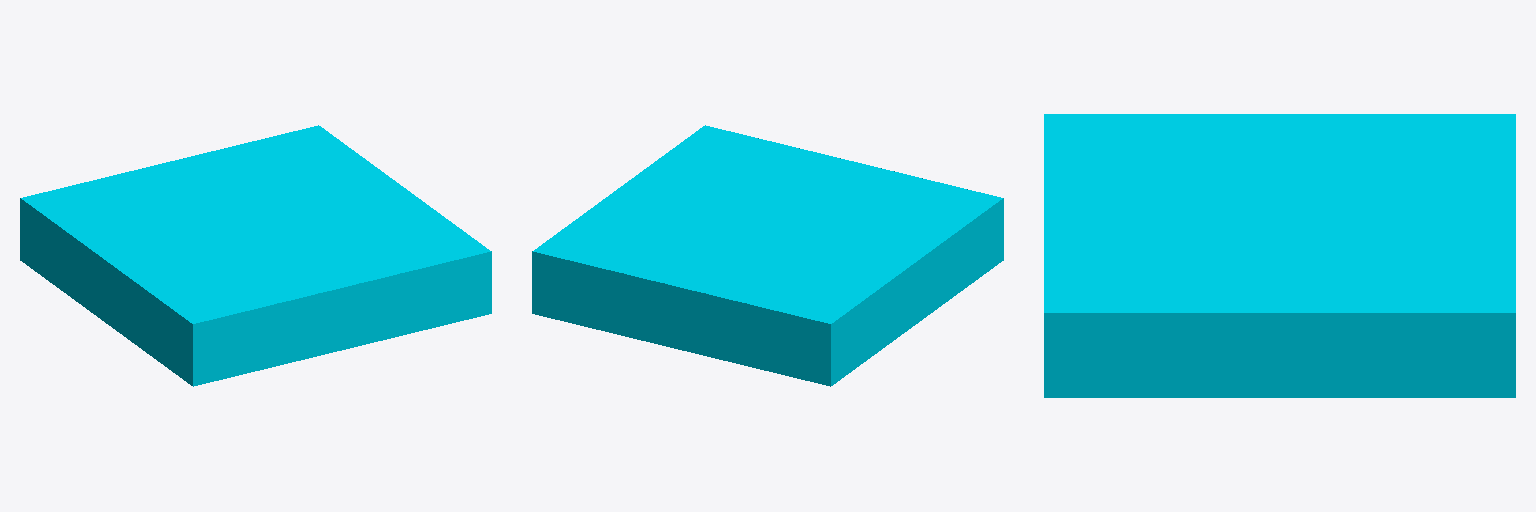
URDF robot description (surface):
<?xml version="1.0" ?>
<robot name="surface" xmlns:xacro="http://ros.org/wiki/xacro">

    <material name="transparent">
        <color rgba="0 0.9 1 0.9"/>
    </material>

    <link name="ocean_base_link">
        <visual>
            <origin rpy="0 0 0" xyz="-10 -10 0"/>
            <geometry>
                <mesh filename="package://underwater_sim/models/meshes/ocean/ocean_hollow.STL" scale="0.001 0.001 -0.0001"/>
            </geometry>
            <material name="transparent"/>
        </visual>
        <collision name="ocean_surface_link_collision">
            <origin rpy="0 0 0" xyz="-10 -10 0"/>
            <geometry>
                <mesh filename="package://underwater_sim/models/meshes/ocean/ocean_hollow.STL" scale="1 1 1"/>
            </geometry>
        </collision>
        <inertial>
            <mass value="95.78"/>
            <inertia ixx="57.28" ixy="0.00" ixz="-0.23" iyy="57.28" iyz="0.00" izz="6.09"/>
        </inertial>
    </link>

    <link name="ocean_ceiling_link">
        <visual>
            <origin rpy="0 0 0" xyz="-10 -10 10"/>
            <geometry>
                <mesh filename="package://underwater_sim/models/meshes/ocean/ocean_hollow.STL" scale="0.001 0.001 -0.0001"/>
            </geometry>
            <material name="transparent"/>
        </visual>
        <!--
        <collision name="ocean_ceiling_link_collision">
            <origin rpy="0 0 0" xyz="-10 -10 10"/>
            <geometry>
                <mesh filename="package://underwater_sim/models/meshes/ocean/ocean_hollow.STL" scale="1 1 1"/>
            </geometry>
        </collision>-->
        <inertial>
            <mass value="95.78"/>
            <inertia ixx="57.28" ixy="0.00" ixz="-0.23" iyy="57.28" iyz="0.00" izz="6.09"/>
        </inertial>
    </link>
    
    <joint name="ceiling_joint" type="fixed">
        <origin xyz="0 0 0"/>
        <parent link="ocean_base_link"/>
        <child link="ocean_ceiling_link"/>
    </joint>

    <gazebo reference="ocean_base_link">
        <visual name='visual'>
            <material>
            <lighting>1</lighting>
            <script>
                <uri>file:/[local-path]/scripts/gazebo.material</uri>
                <name>Gazebo/Black</name>
            </script>
            <ambient>0.1 0.18725 0.1745 0.8</ambient>
            <diffuse>0.396 0.74151 0.69102 0.8</diffuse>
            <specular>0.0297254 0.030829 0.0306678 0.8</specular>
            <emissive>0 0 0 0.4</emissive>
            <shader type='vertex'>
                <normal_map>__default__</normal_map>
            </shader>
            </material>
            <cast_shadows>1</cast_shadows>
            <transparency>0.2</transparency>
        </visual>
    </gazebo>

    <gazebo reference="ocean_ceiling_link">
        <visual name='visual'>
            <transparency>1</transparency>
        </visual>
    </gazebo>

</robot>

--- Facts derived from the render (not from the file) ---
3 views of the same robot in one strip: view 1: azimuth 30°, elevation 25°; view 2: azimuth 150°, elevation 25°; view 3: azimuth 270°, elevation 25° (orthographic).
Robot: surface — 2 links, 1 joints (1 fixed); root link ocean_base_link; default pose: every joint at zero.
Visible links, largest first — view 1: ocean_ceiling_link, ocean_base_link; view 2: ocean_ceiling_link, ocean_base_link; view 3: ocean_ceiling_link, ocean_base_link.
Link boxes in pixels (x1,y1,x2,y2): ocean_ceiling_link: [20, 125, 491, 354]; ocean_base_link: [20, 229, 491, 386]; ocean_ceiling_link: [532, 125, 1003, 354]; ocean_base_link: [532, 229, 1003, 386]; ocean_ceiling_link: [1044, 114, 1515, 355]; ocean_base_link: [1044, 355, 1515, 397].
Bounding box of the posed robot: 100 × 100 × 20.02 m (x, y, z).
2 mesh visuals loaded from 1 distinct referenced files (1 binary STL).